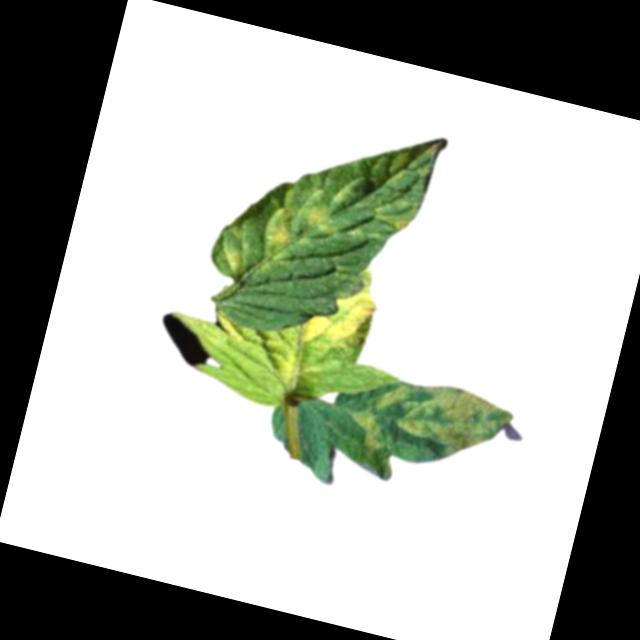Leaf_Mold: (341, 363, 517, 505), (297, 251, 388, 364), (254, 181, 341, 270), (211, 218, 258, 279)
